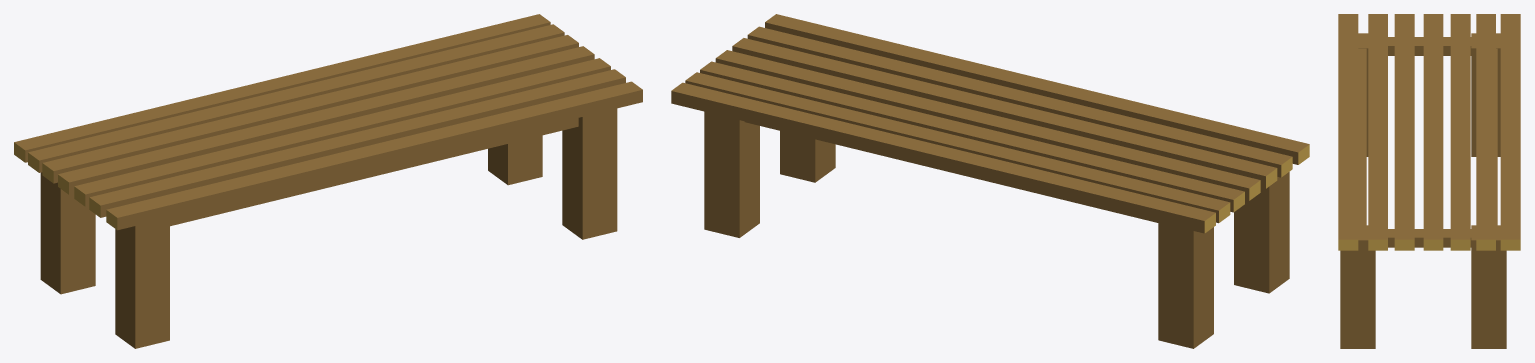
File: bench1.FBX
3 views of the same model, side by side, from view 1: azimuth 30°, elevation 25°; view 2: azimuth 150°, elevation 25°; view 3: azimuth 270°, elevation 25° (orthographic). The views are drawn at different scales.
Parts seen in each view (by area): view 1: bench1; view 2: bench1; view 3: bench1.
Part boxes in pixels (<box>): bench1: <box>14,14,642,348</box>; bench1: <box>671,14,1309,348</box>; bench1: <box>1338,14,1520,348</box>.
Bounding box in the file's own units: 6.05 × 1.5 × 2.06.
